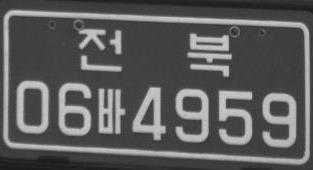0: (15, 78, 49, 134)
4: (132, 87, 166, 141)
5: (218, 88, 253, 145)
6: (58, 81, 91, 135)
9: (174, 87, 209, 143), (262, 92, 297, 147)
바: (98, 88, 125, 133)
전북_D: (77, 27, 232, 77)
